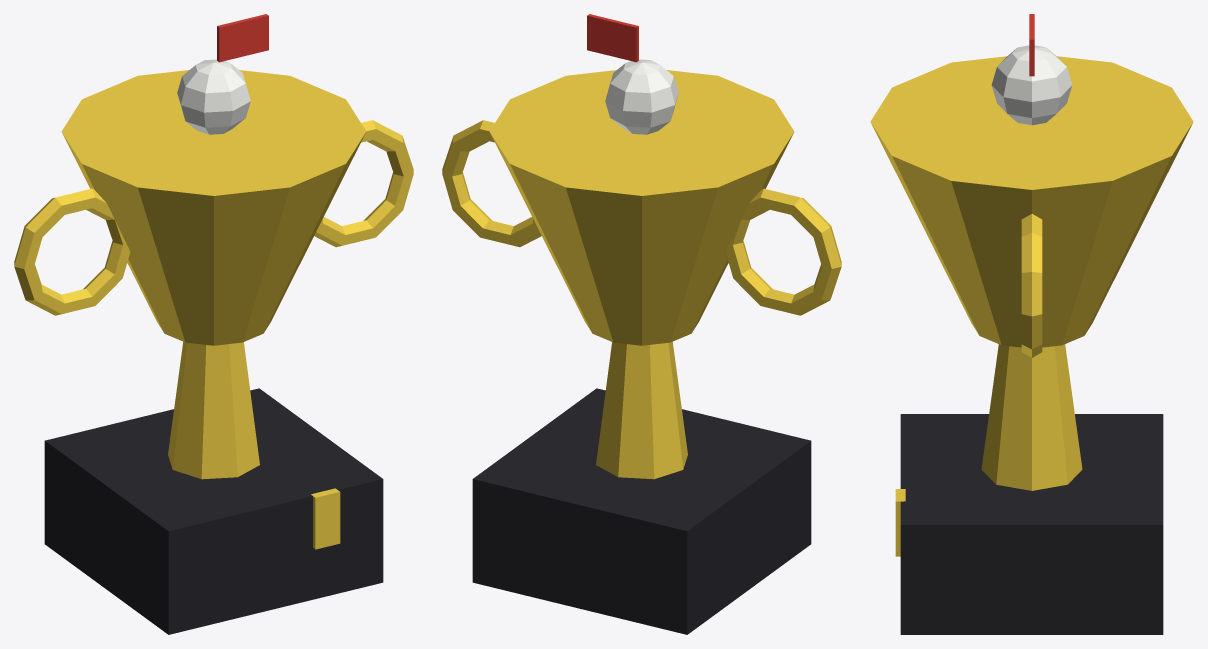
The model's file is plastic_trophy.glb.
3 views of the same model, side by side, from view 1: azimuth 30°, elevation 25°; view 2: azimuth 150°, elevation 25°; view 3: azimuth 270°, elevation 25° (orthographic). The views are drawn at different scales.
Parts seen in each view (by area): view 1: base_golf_trophy_base, cup_golf_plastic, stem_golf_plastic, handle_golf_plastic, ball_golf_ball, flag_golf_flag, drip_golf_drip; view 2: base_golf_trophy_base, cup_golf_plastic, stem_golf_plastic, handle_golf_plastic, ball_golf_ball, flag_golf_flag; view 3: cup_golf_plastic, base_golf_trophy_base, stem_golf_plastic, ball_golf_ball, handle_golf_plastic, drip_golf_drip.
Boxes of the visible parts, <box> form: base_golf_trophy_base: <box>44,388,383,634</box>; cup_golf_plastic: <box>61,70,366,345</box>; stem_golf_plastic: <box>168,342,259,479</box>; handle_golf_plastic: <box>14,120,413,315</box>; ball_golf_ball: <box>177,59,250,134</box>; flag_golf_flag: <box>217,14,268,62</box>; drip_golf_drip: <box>311,488,340,549</box>; base_golf_trophy_base: <box>472,388,811,634</box>; cup_golf_plastic: <box>489,70,794,345</box>; stem_golf_plastic: <box>596,342,687,479</box>; handle_golf_plastic: <box>442,120,841,315</box>; ball_golf_ball: <box>605,59,678,134</box>; flag_golf_flag: <box>587,14,638,62</box>; cup_golf_plastic: <box>870,56,1193,347</box>; base_golf_trophy_base: <box>900,414,1163,634</box>; stem_golf_plastic: <box>981,344,1082,490</box>; ball_golf_ball: <box>991,45,1072,125</box>; handle_golf_plastic: <box>1021,214,1042,357</box>; drip_golf_drip: <box>895,489,905,556</box>.
Size of the model in its own units: 0.484 by 0.62 by 0.32.
